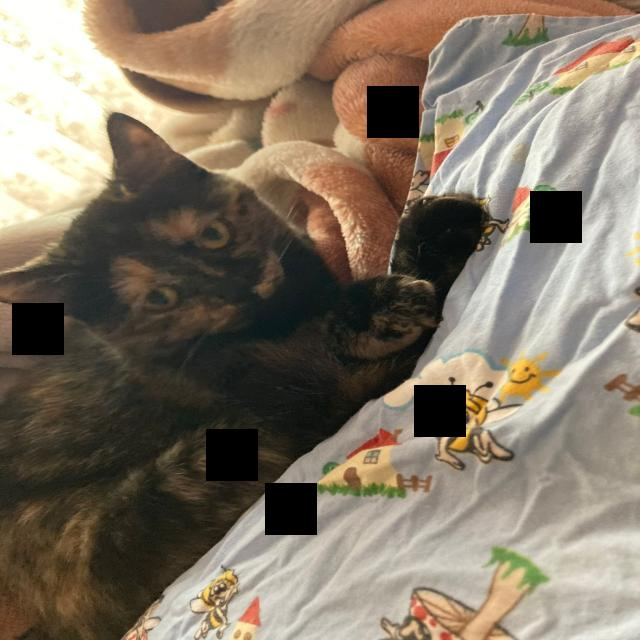authorized: (1, 111, 492, 639)
